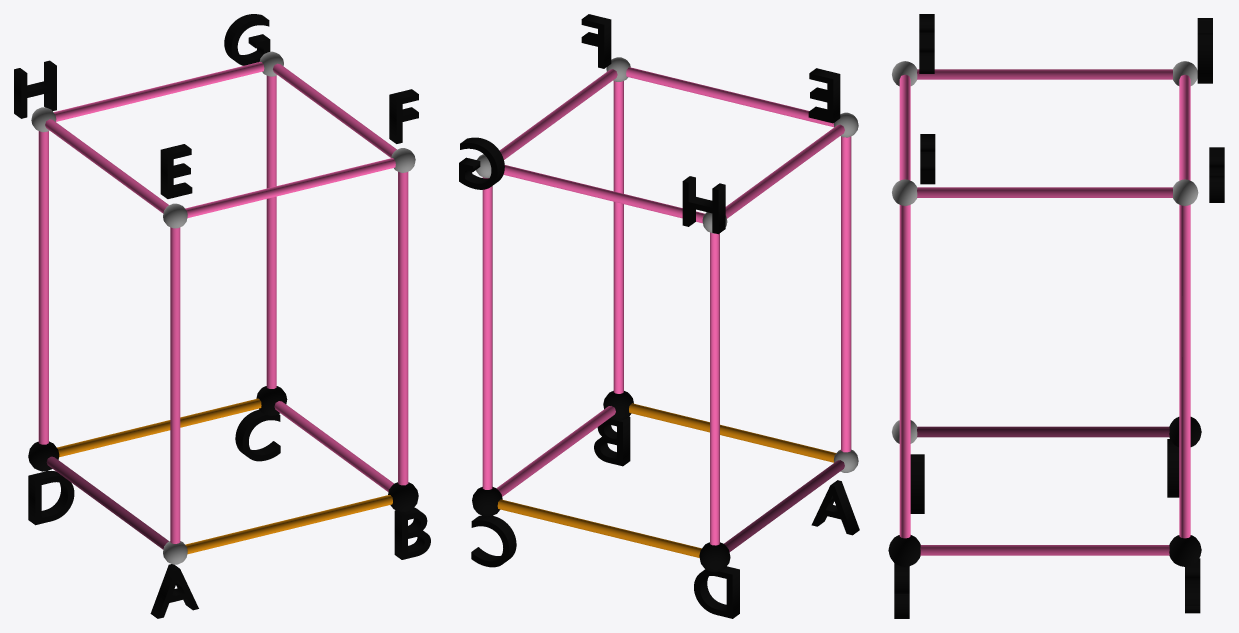
Rendered from res_10040.glb.
3 views of the same model, side by side, from view 1: azimuth 30°, elevation 25°; view 2: azimuth 150°, elevation 25°; view 3: azimuth 270°, elevation 25° (orthographic). The views are drawn at different scales.
Parts seen in each view (by area): view 1: imagetostl_mesh15, Text.003, Text.001, Text.007, Text.006, Text.004, Text, Text.002, Text.005; view 2: imagetostl_mesh15, Text.007, Text.003, Text.006, Text.001, Text.004, Text.002, Text, Text.005; view 3: imagetostl_mesh15, Text.007, Text.004, Text, Text.006, Text.001, Text.005, Text.002, Text.003.
Part boxes in pixels (<box>): imagetostl_mesh15: <box>28,51,418,564</box>; Text.003: <box>28,471,74,525</box>; Text.001: <box>394,507,430,559</box>; Text.007: <box>14,60,56,118</box>; Text.006: <box>224,14,270,65</box>; Text.004: <box>160,144,192,198</box>; Text: <box>150,564,198,618</box>; Text.002: <box>235,409,280,461</box>; Text.005: <box>389,89,418,143</box>; imagetostl_mesh15: <box>472,57,858,572</box>; Text.007: <box>682,176,725,234</box>; Text.003: <box>694,566,739,618</box>; Text.006: <box>459,137,504,189</box>; Text.001: <box>594,416,630,466</box>; Text.004: <box>808,68,840,123</box>; Text.002: <box>471,515,516,567</box>; Text: <box>811,480,859,535</box>; Text.005: <box>581,14,611,68</box>; imagetostl_mesh15: <box>888,61,1201,566</box>; Text.007: <box>1197,18,1212,83</box>; Text.004: <box>919,14,934,73</box>; Text: <box>910,454,924,513</box>; Text.006: <box>1209,147,1224,202</box>; Text.001: <box>894,563,909,618</box>; Text.005: <box>920,134,935,184</box>; Text.002: <box>1185,558,1200,613</box>; Text.003: <box>1167,439,1179,497</box>.
Bounding box in the file's own units: 1.17 × 1.92 × 1.2.
